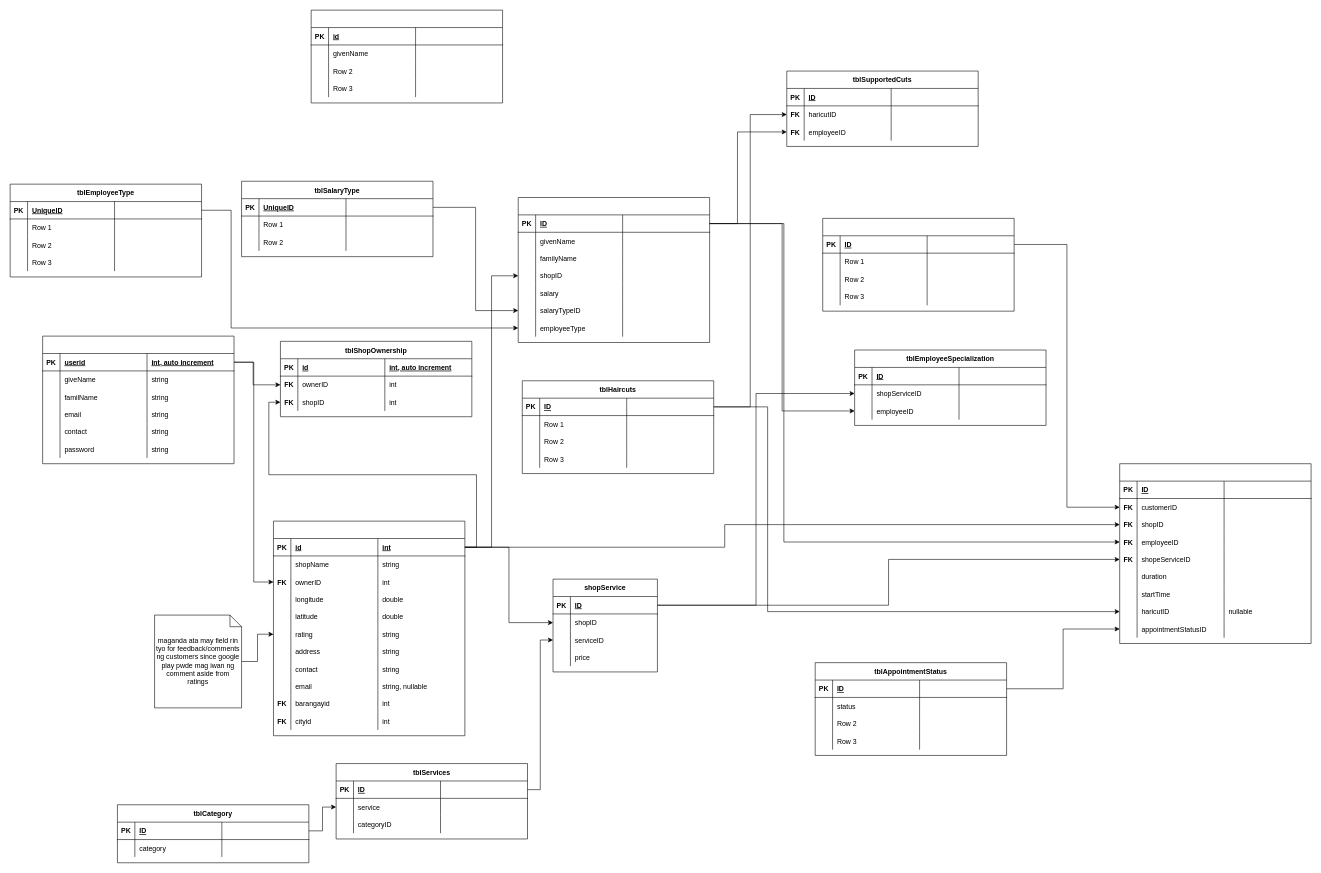
Image size: 1321x873. Some labels were removed from this diagram. Here are the shapes that lost their labels. From the top down, the box of each, then its label:
(311, 10, 503, 103): tblAdmin
(518, 197, 710, 342): tblEmployee
(822, 218, 1014, 311): tblCustomer
(42, 336, 234, 464): tblOwner
(1119, 463, 1311, 644): tblAppointment
(273, 521, 465, 736): tblShop
